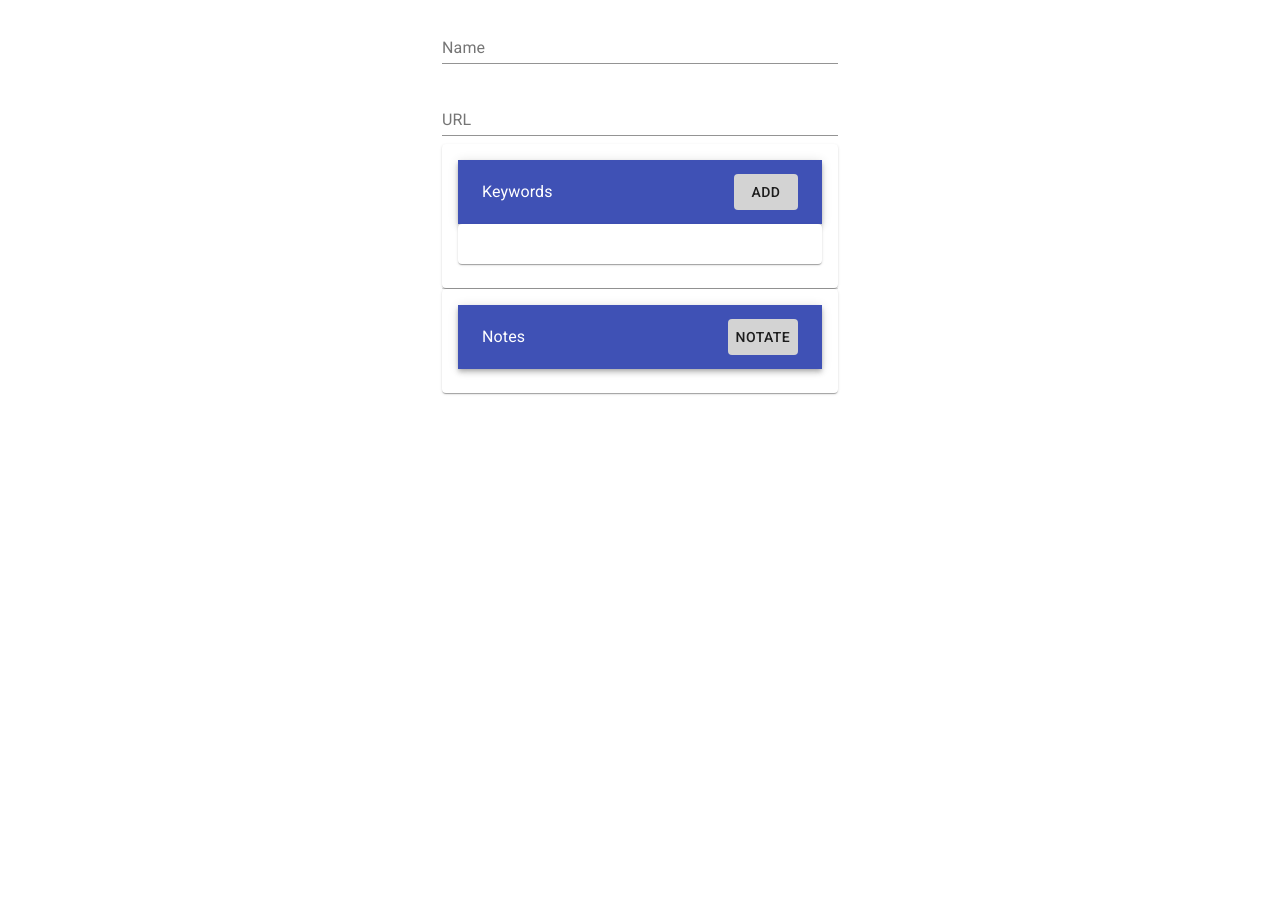
Test case: Material component tests › notates entries
Expected: the text "Notate" is shown, [736,325,790,349]
Click the button "Notate" at (763, 337), box [728,319,798,355]
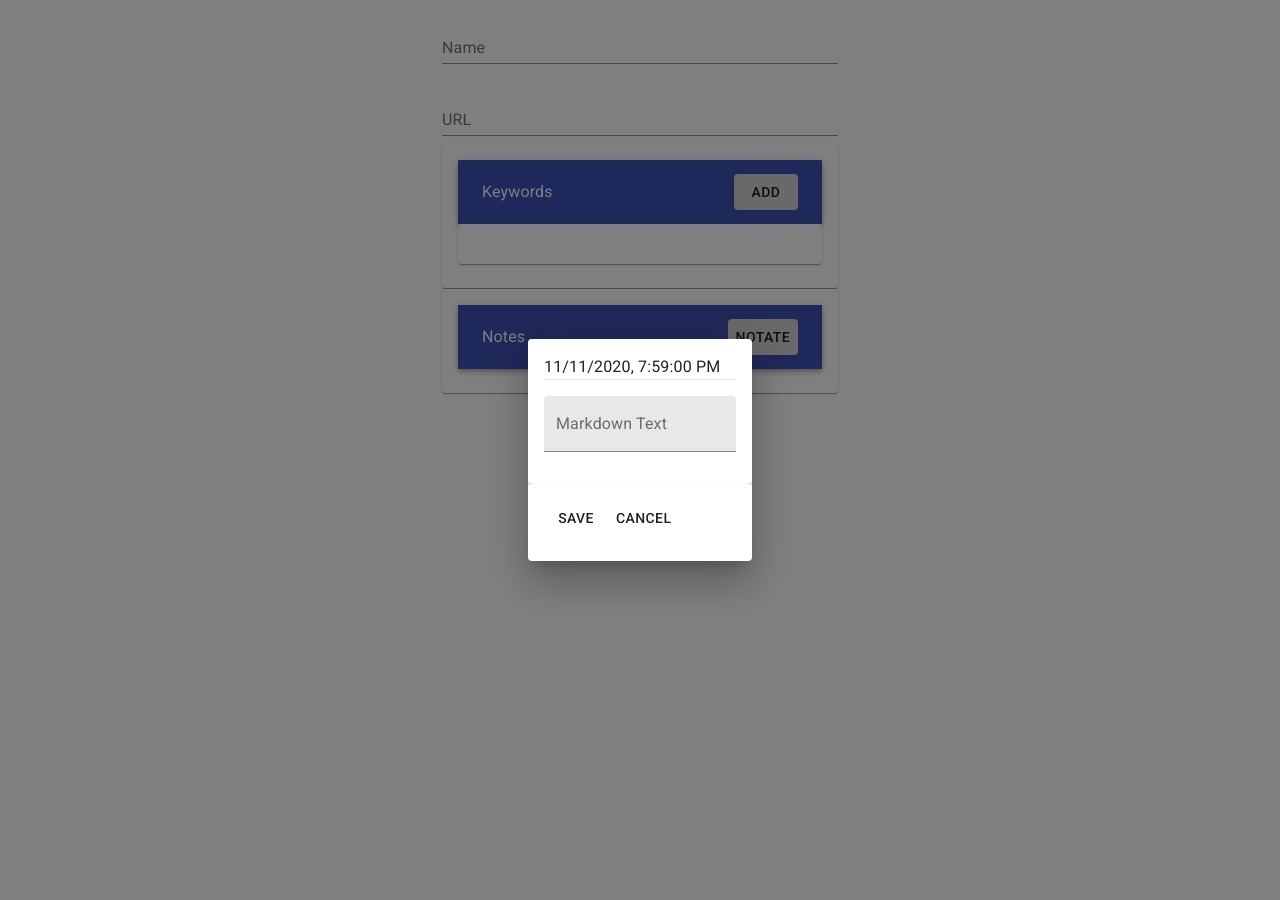
Type "todo list" into the text box at (640, 433), box [556,423,724,442]
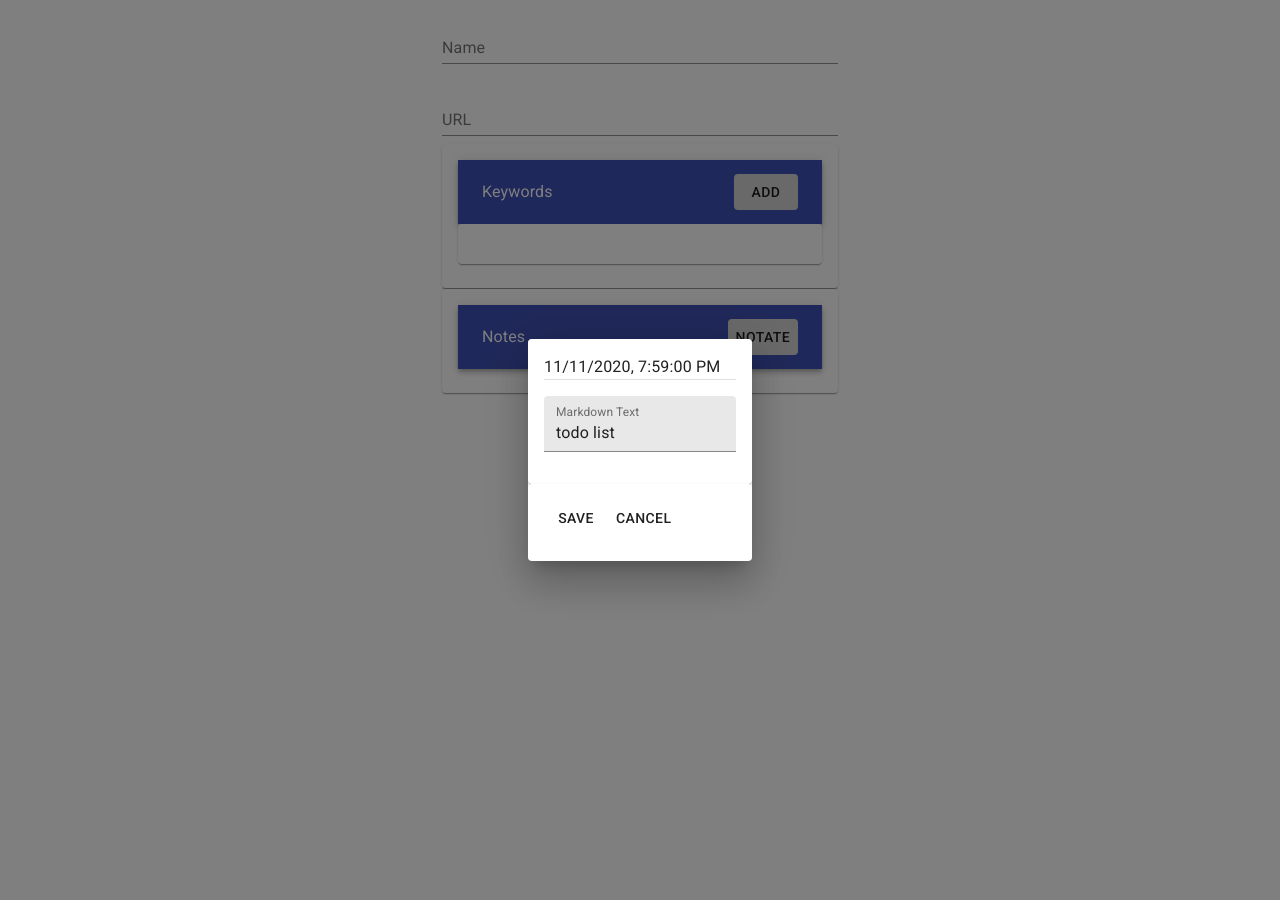
Click the button "Save" at (576, 519), box [544,500,608,537]
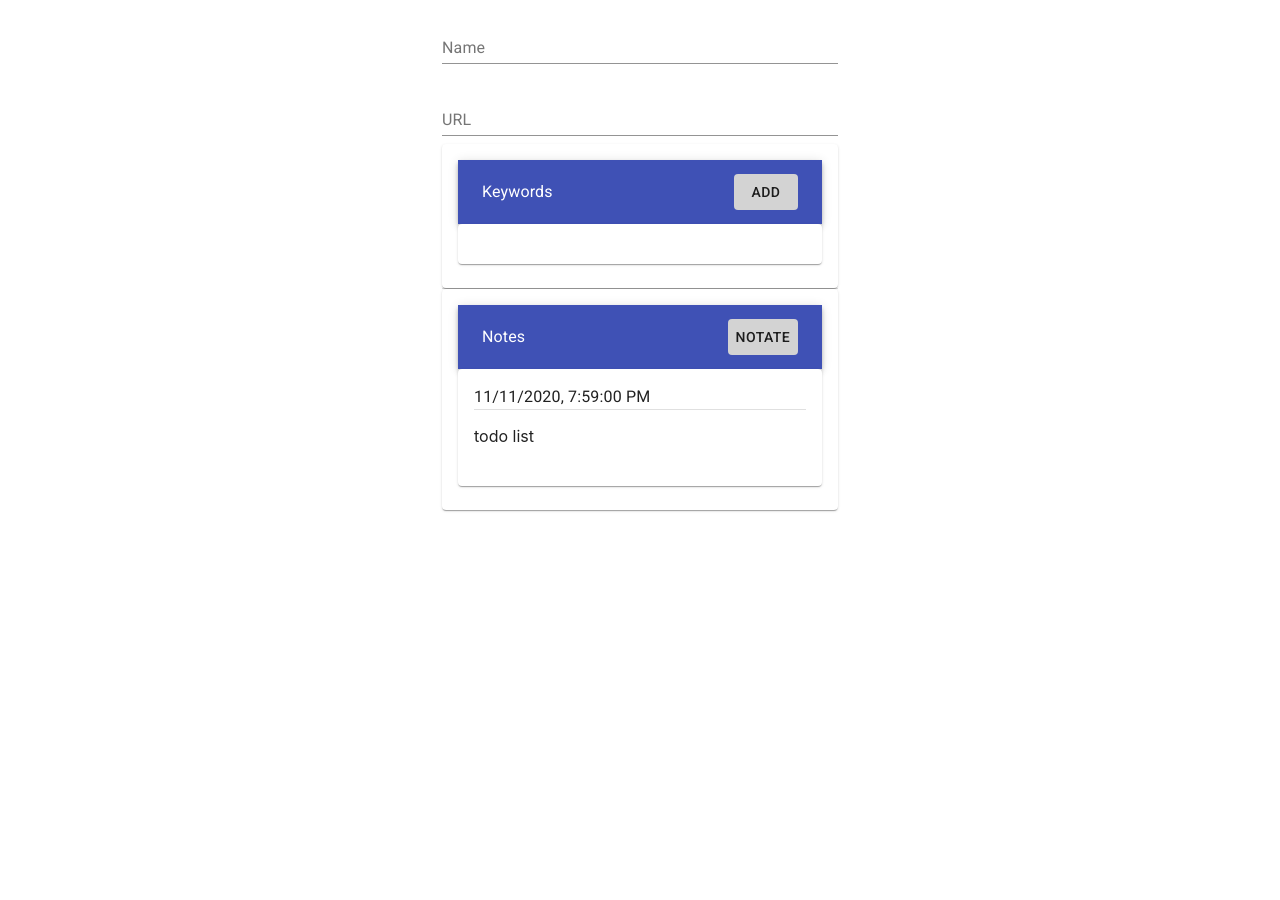
Result: the text "todo list" is shown at [474,426,534,446]
